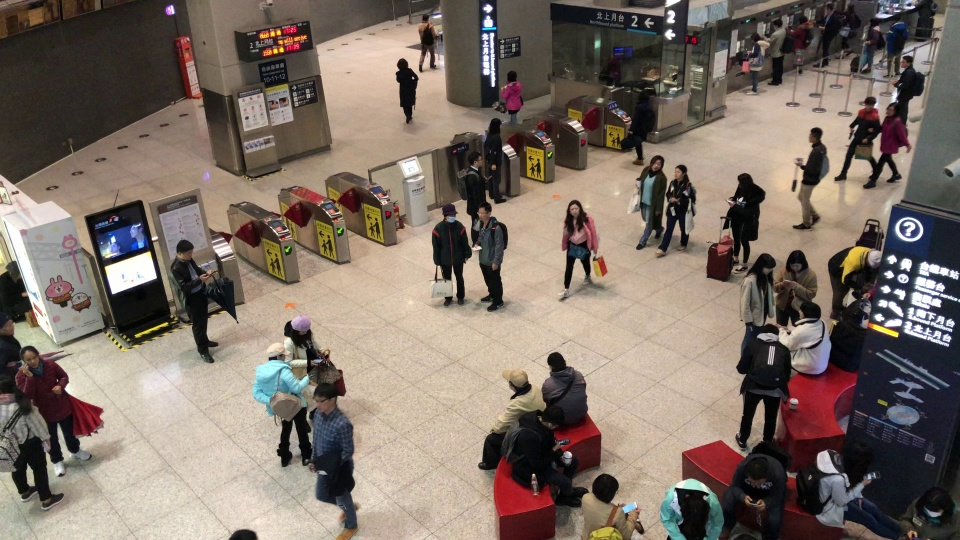person_head: (591, 473, 620, 503), (847, 444, 874, 474), (682, 499, 709, 528), (313, 383, 338, 412), (923, 491, 947, 519), (745, 458, 768, 487), (503, 368, 528, 392), (543, 406, 564, 433), (18, 345, 41, 369), (265, 341, 290, 362), (787, 249, 808, 271), (757, 252, 776, 276), (797, 300, 822, 318), (546, 352, 567, 372), (175, 239, 194, 260), (0, 375, 18, 396), (293, 316, 312, 335), (807, 125, 824, 143), (477, 202, 493, 221), (867, 248, 881, 269), (466, 152, 483, 168), (649, 154, 665, 171), (736, 172, 753, 188), (441, 203, 456, 221), (5, 261, 20, 279), (884, 101, 901, 116), (568, 199, 582, 217), (3, 318, 17, 334), (762, 323, 780, 335), (489, 117, 501, 134), (863, 96, 877, 110), (674, 165, 687, 180), (900, 55, 913, 69), (396, 57, 409, 69), (637, 90, 649, 103), (506, 69, 517, 82), (868, 17, 880, 28), (751, 32, 762, 43), (774, 18, 783, 31), (846, 2, 854, 13), (421, 13, 430, 22), (825, 4, 834, 13), (797, 16, 807, 24), (893, 13, 901, 22)
person_vbox: (796, 443, 902, 540), (14, 346, 92, 477), (499, 406, 589, 509), (1, 375, 65, 510), (309, 382, 360, 540), (251, 342, 314, 467), (733, 323, 791, 450), (476, 366, 545, 470), (722, 441, 792, 540), (166, 239, 220, 364), (283, 316, 330, 420), (721, 172, 765, 275), (862, 102, 912, 189), (774, 300, 832, 375), (790, 125, 830, 233), (826, 244, 882, 321), (557, 199, 600, 299), (431, 203, 471, 309), (581, 473, 645, 539), (832, 96, 881, 182), (737, 252, 776, 360), (659, 477, 724, 540), (472, 202, 509, 311), (654, 163, 696, 256), (540, 352, 588, 431), (772, 248, 819, 328), (899, 486, 959, 540), (634, 154, 666, 249), (456, 151, 486, 247), (887, 54, 925, 125), (626, 89, 657, 168), (760, 19, 795, 88), (482, 117, 507, 203), (810, 3, 841, 69), (0, 260, 32, 322), (741, 31, 770, 96), (784, 16, 814, 77), (394, 56, 419, 124), (884, 12, 909, 77), (499, 69, 526, 124), (835, 2, 860, 60), (859, 17, 884, 73), (416, 12, 438, 73), (1, 313, 22, 366)
